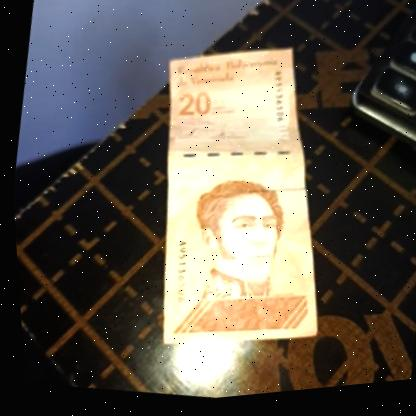vef_front: (118, 27, 361, 375)
